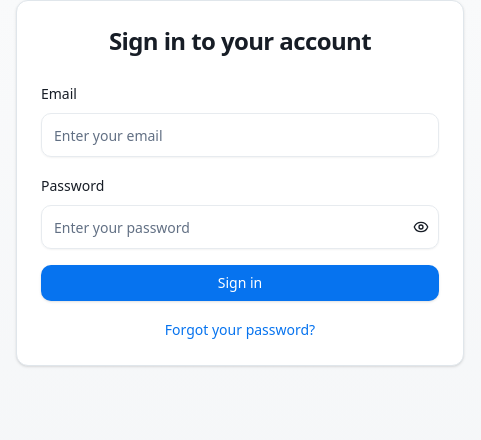
Test: LoginForm › form validation › should validate both fields simultaneously
Click the button "Sign in": (240,283) [41,265,439,301]
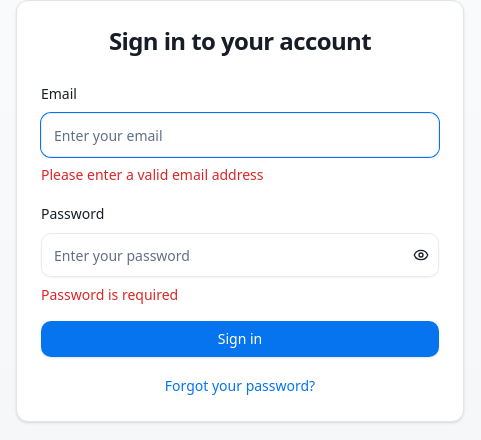
Expected: the text "Please enter a valid email address" is shown, [41,165,264,184]
Expected: the text "Password is required" is shown, [41,285,178,304]
